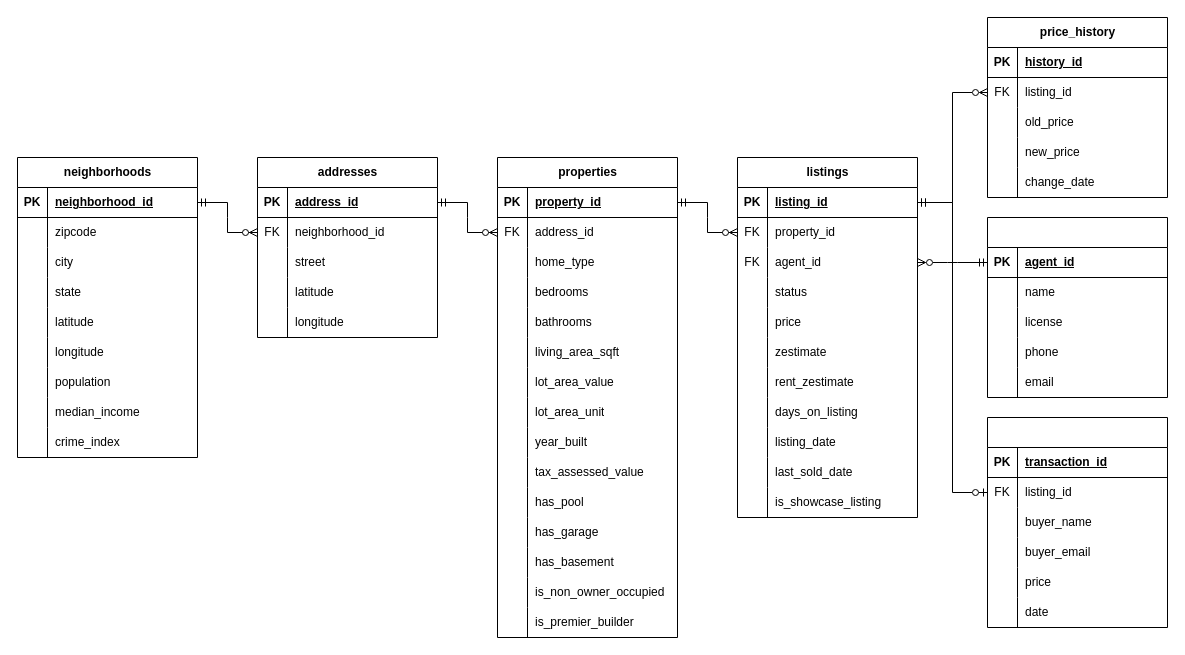
Image size: 1185x655. Some labels were removed from this diagram. Here are the shapes that lost their labels. From the top down, the box of each, then its label:
(986, 216, 1168, 398): agents
(986, 416, 1168, 628): transactions
